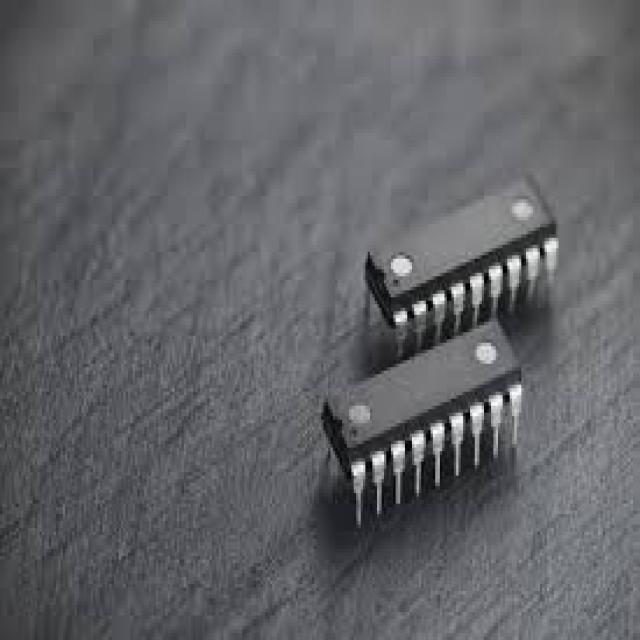IC: (322, 314, 522, 530), (358, 171, 560, 357)
